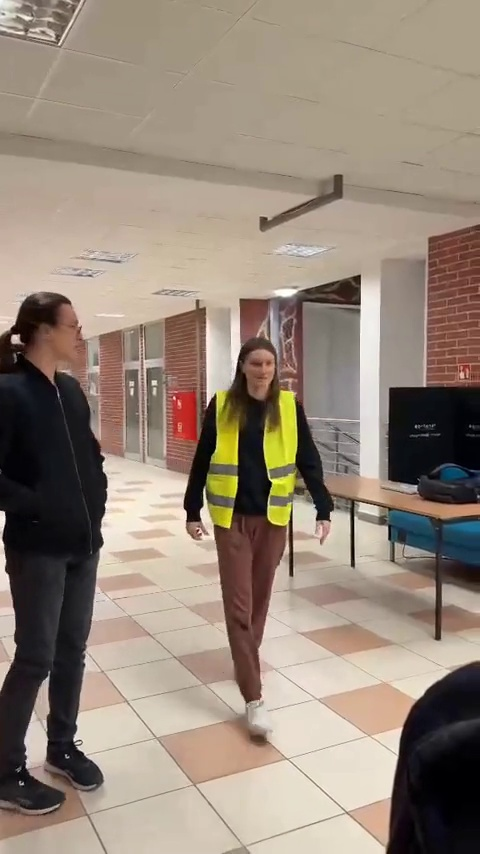no vest: (0, 286, 114, 816)
vest: (187, 335, 335, 767)
